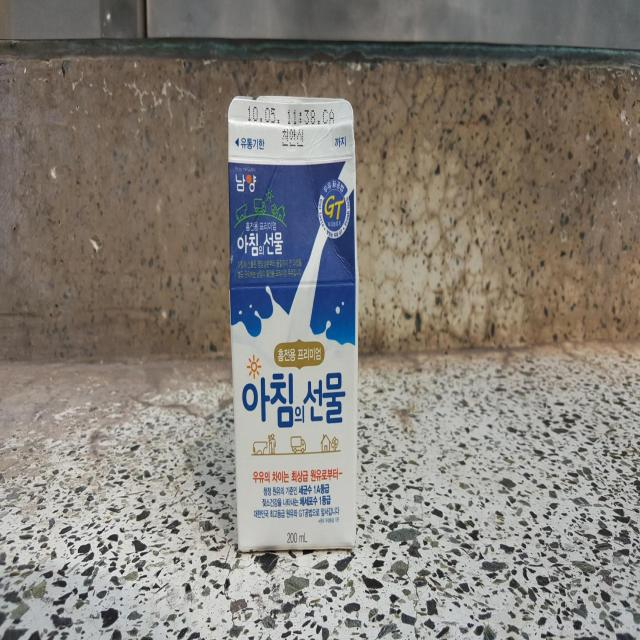paperpack: (228, 95, 358, 552)
